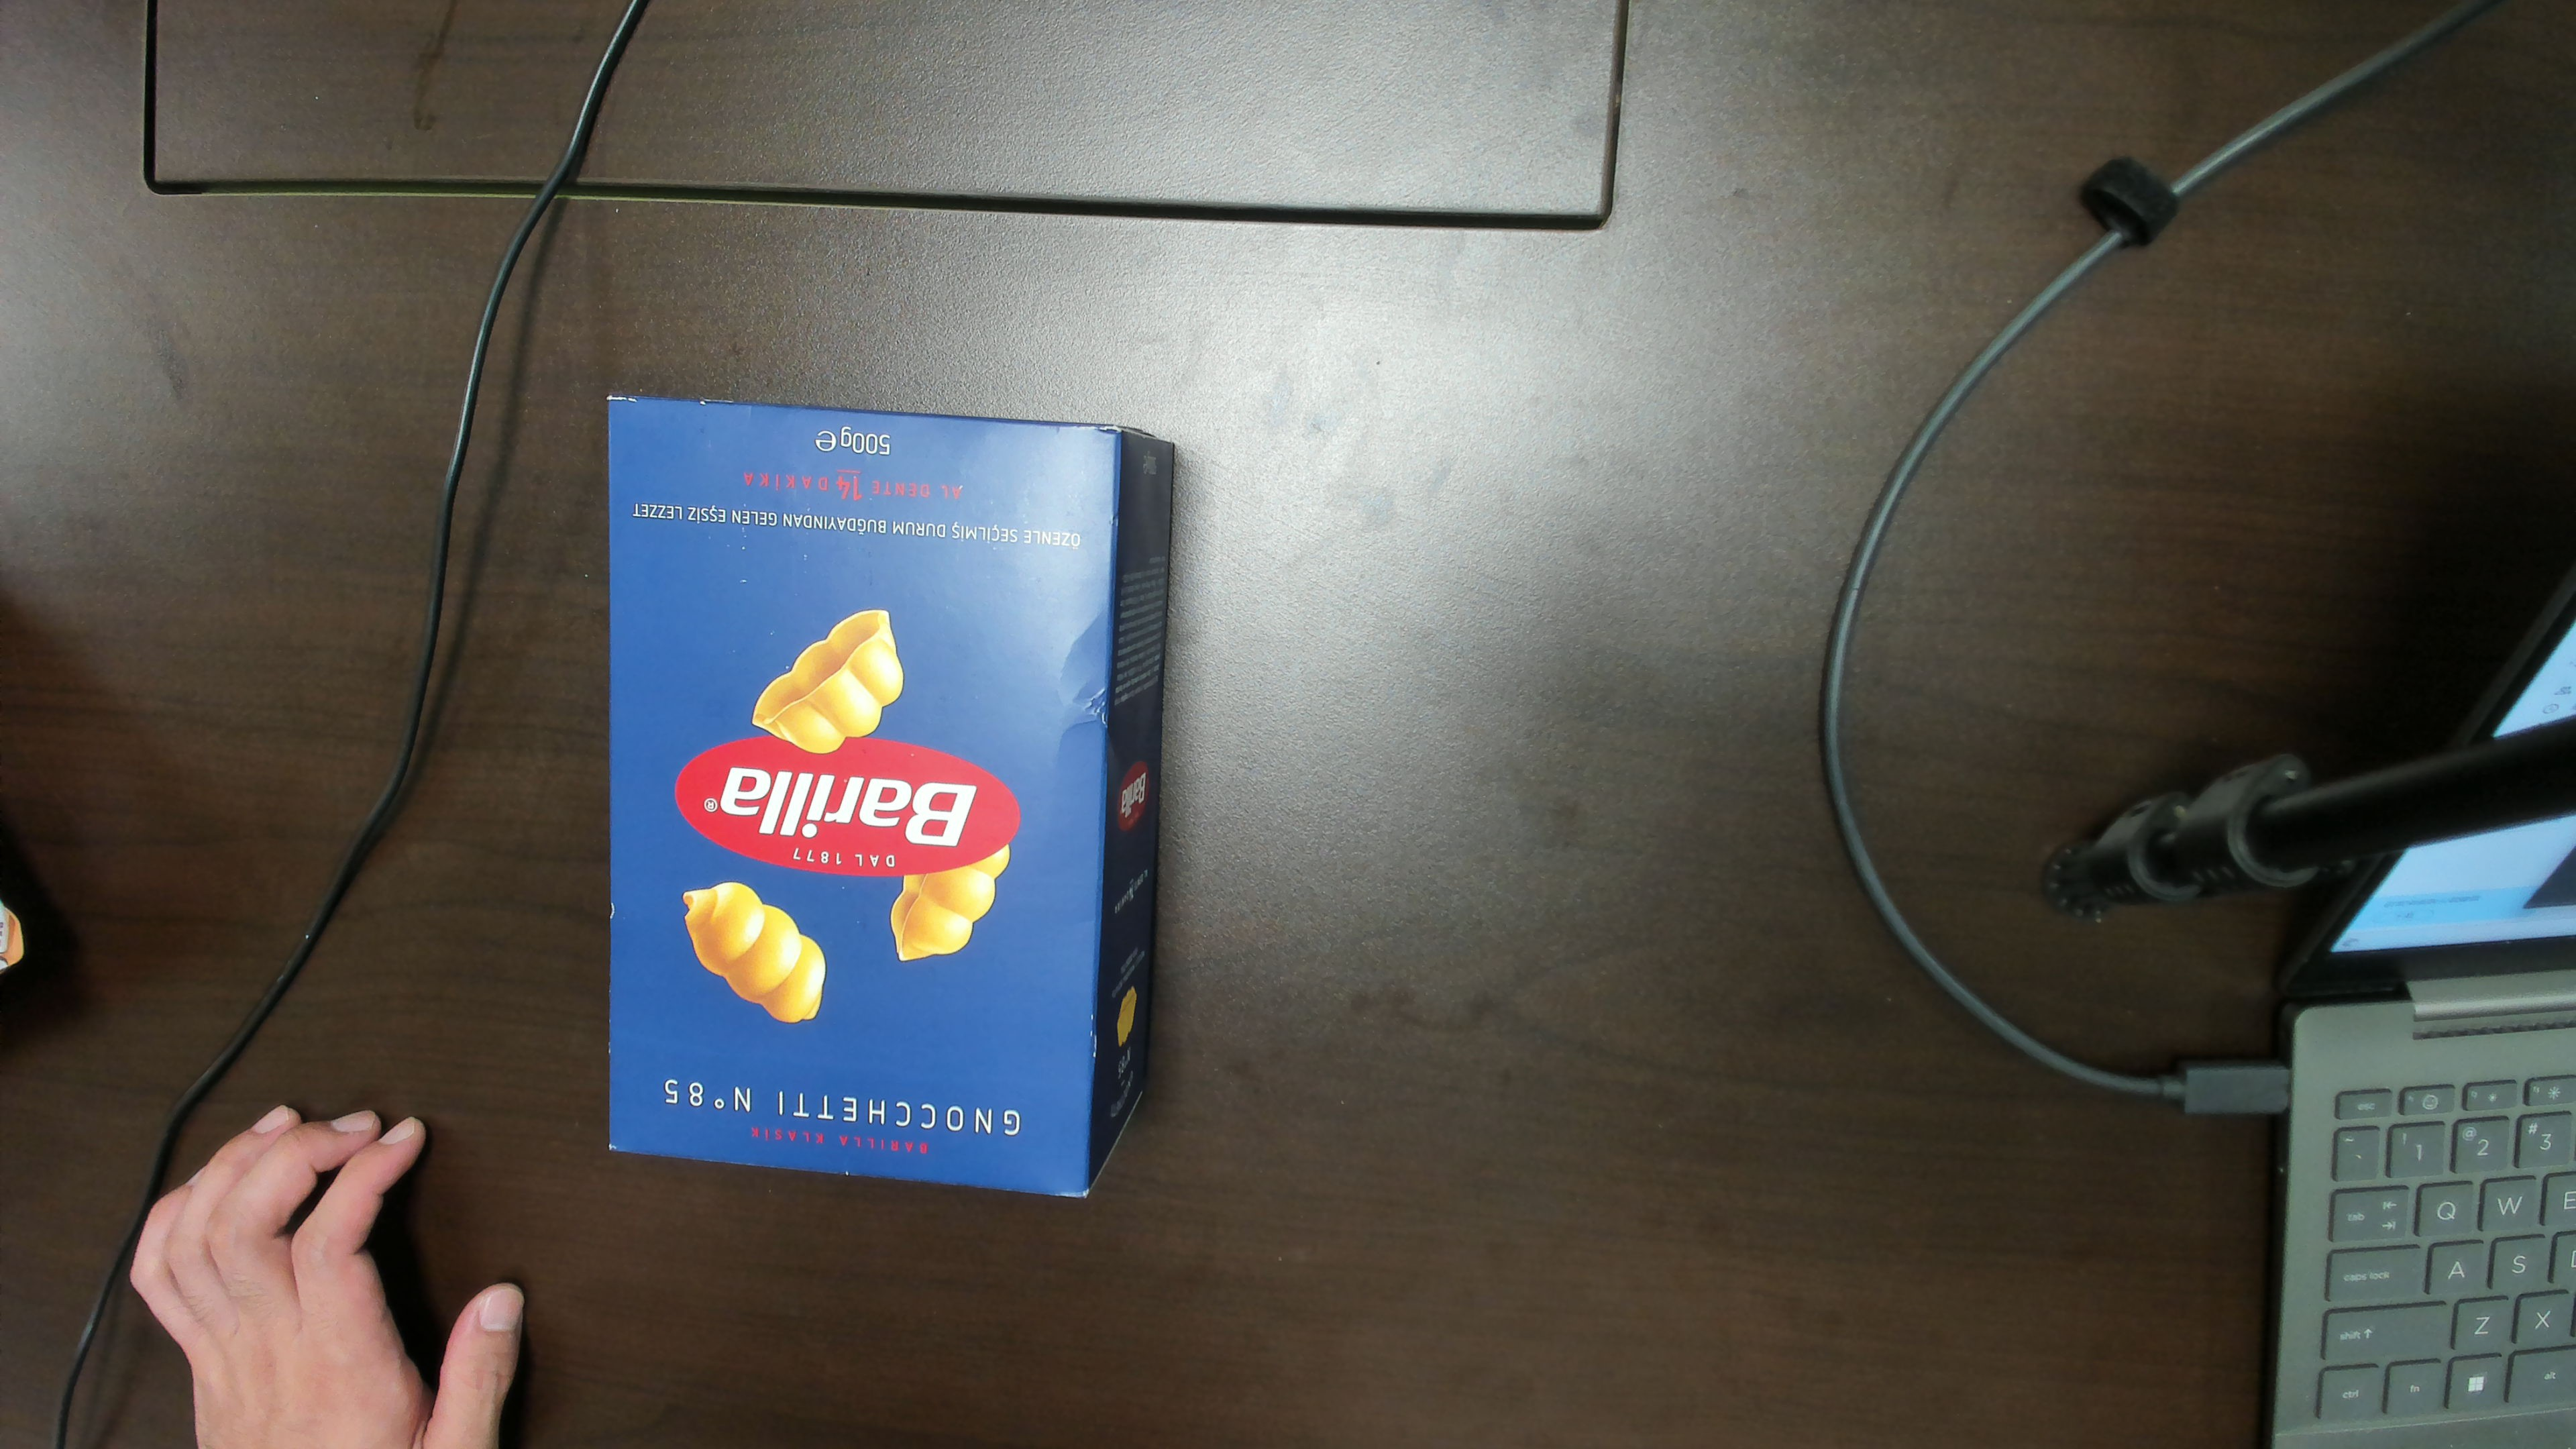Pasta_400-499g_Halal_NonHealthy: (616, 410, 1146, 1164)
